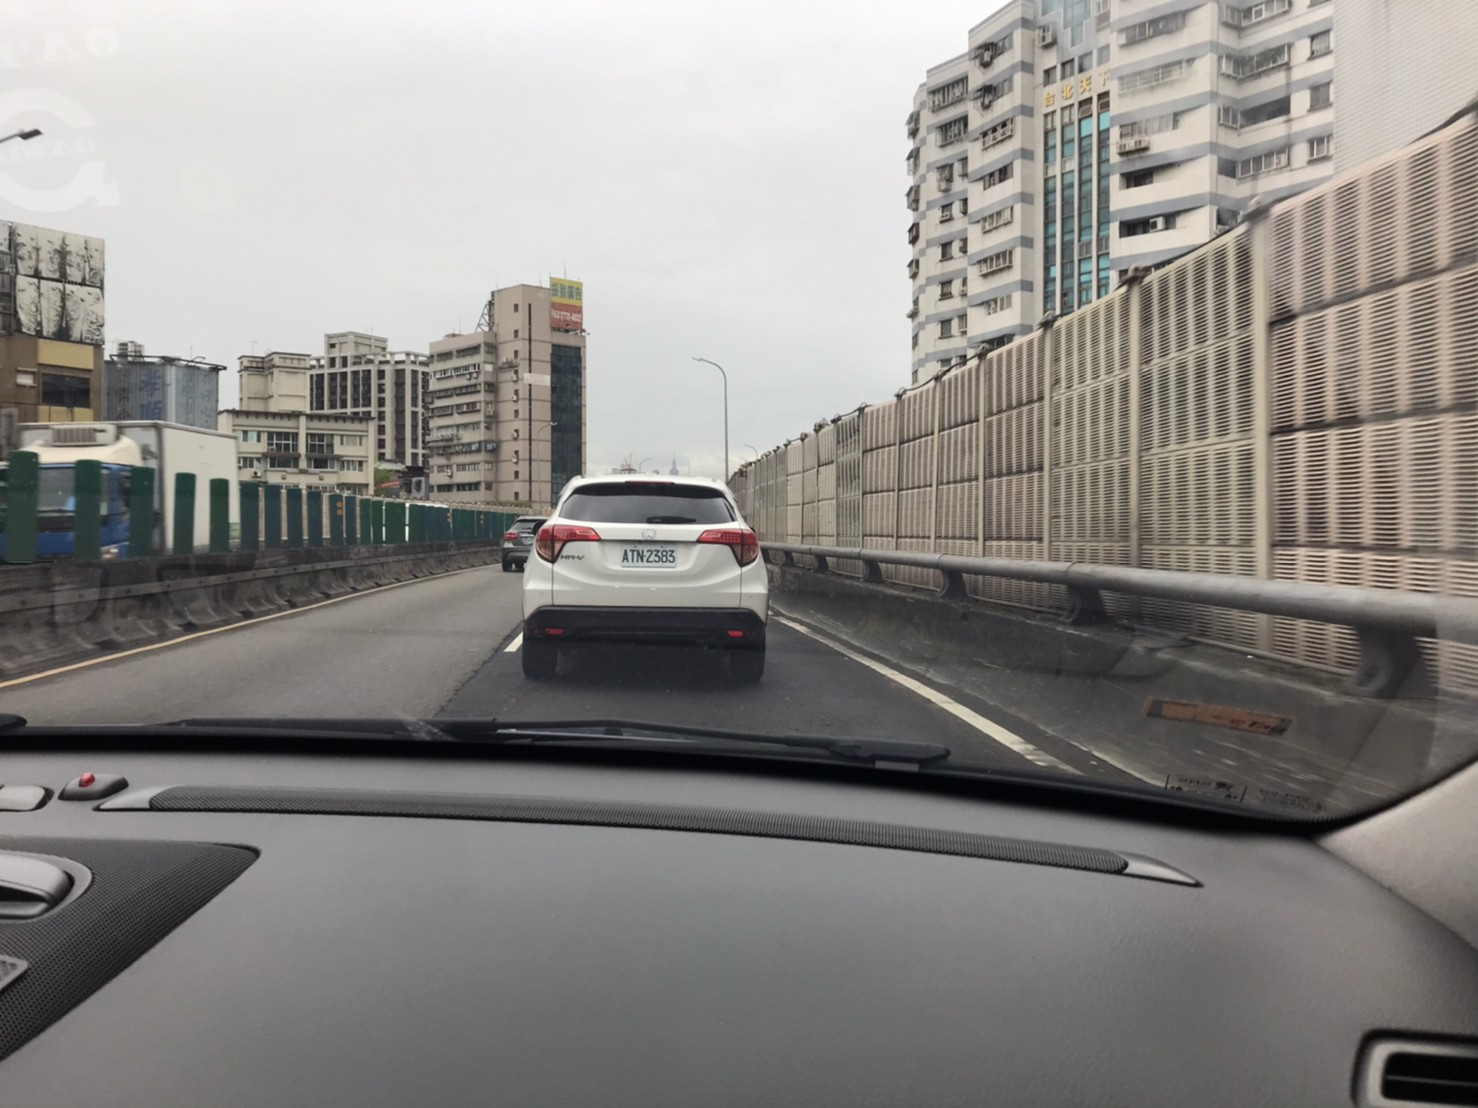LP: (616, 543, 680, 568)
